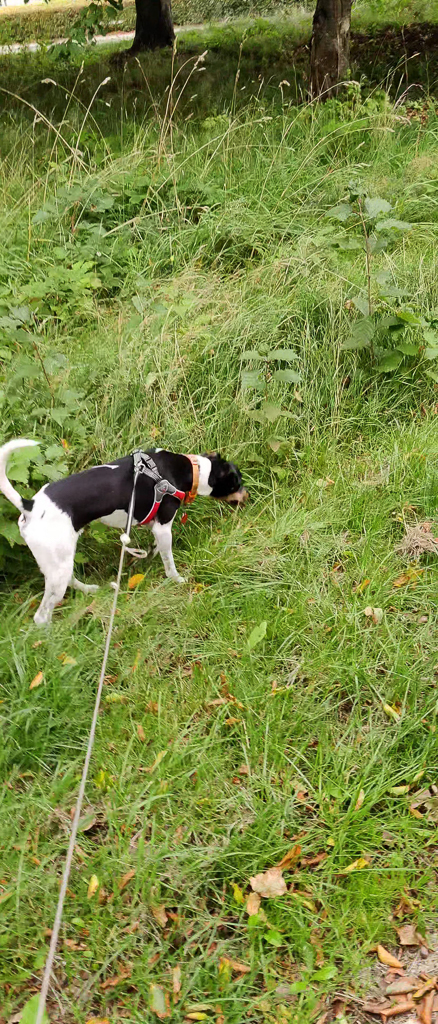Dog: (0, 425, 266, 636)
